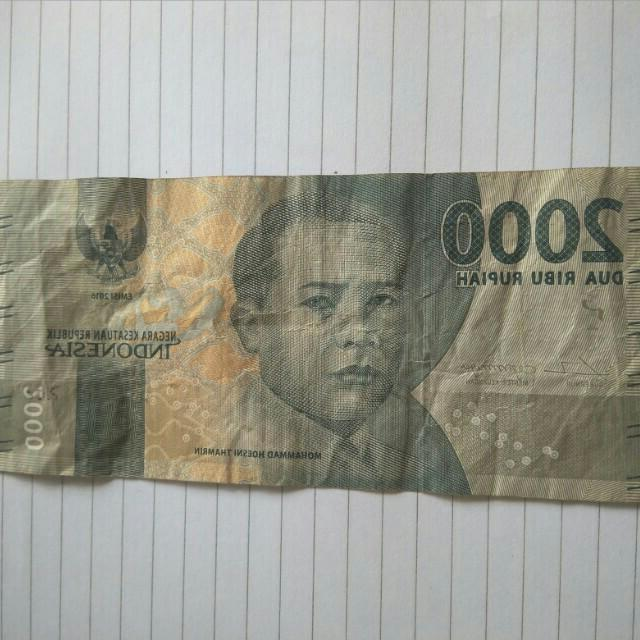dua ribu rupiah: (0, 164, 640, 493)
